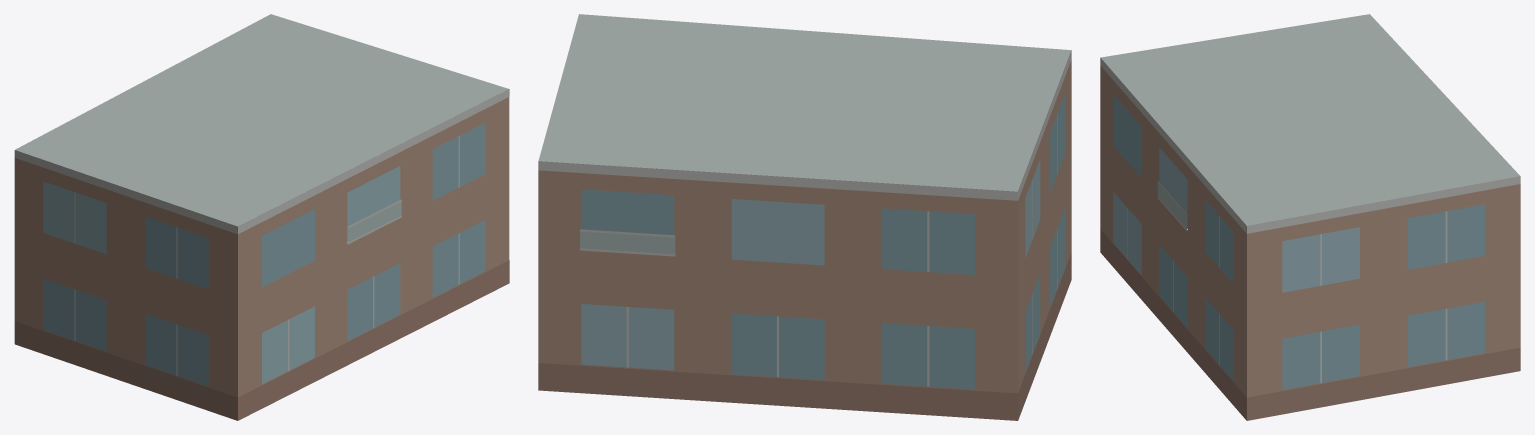
File: survey-upis-32863883.glb
The picture shows the model from 3 angles, left to right: view 1: azimuth 30°, elevation 25°; view 2: azimuth 150°, elevation 25°; view 3: azimuth 270°, elevation 25°; orthographic projection. The views are drawn at different scales.
Parts seen in each view (by area): view 1: survey-upis-32863883.tmp; view 2: survey-upis-32863883.tmp; view 3: survey-upis-32863883.tmp.
Boxes of the visible parts, <box> form: survey-upis-32863883.tmp: <box>14,14,509,420</box>; survey-upis-32863883.tmp: <box>538,14,1071,420</box>; survey-upis-32863883.tmp: <box>1100,14,1520,420</box>.
Size of the model in its own units: 14.25 by 6.1 by 11.93.
